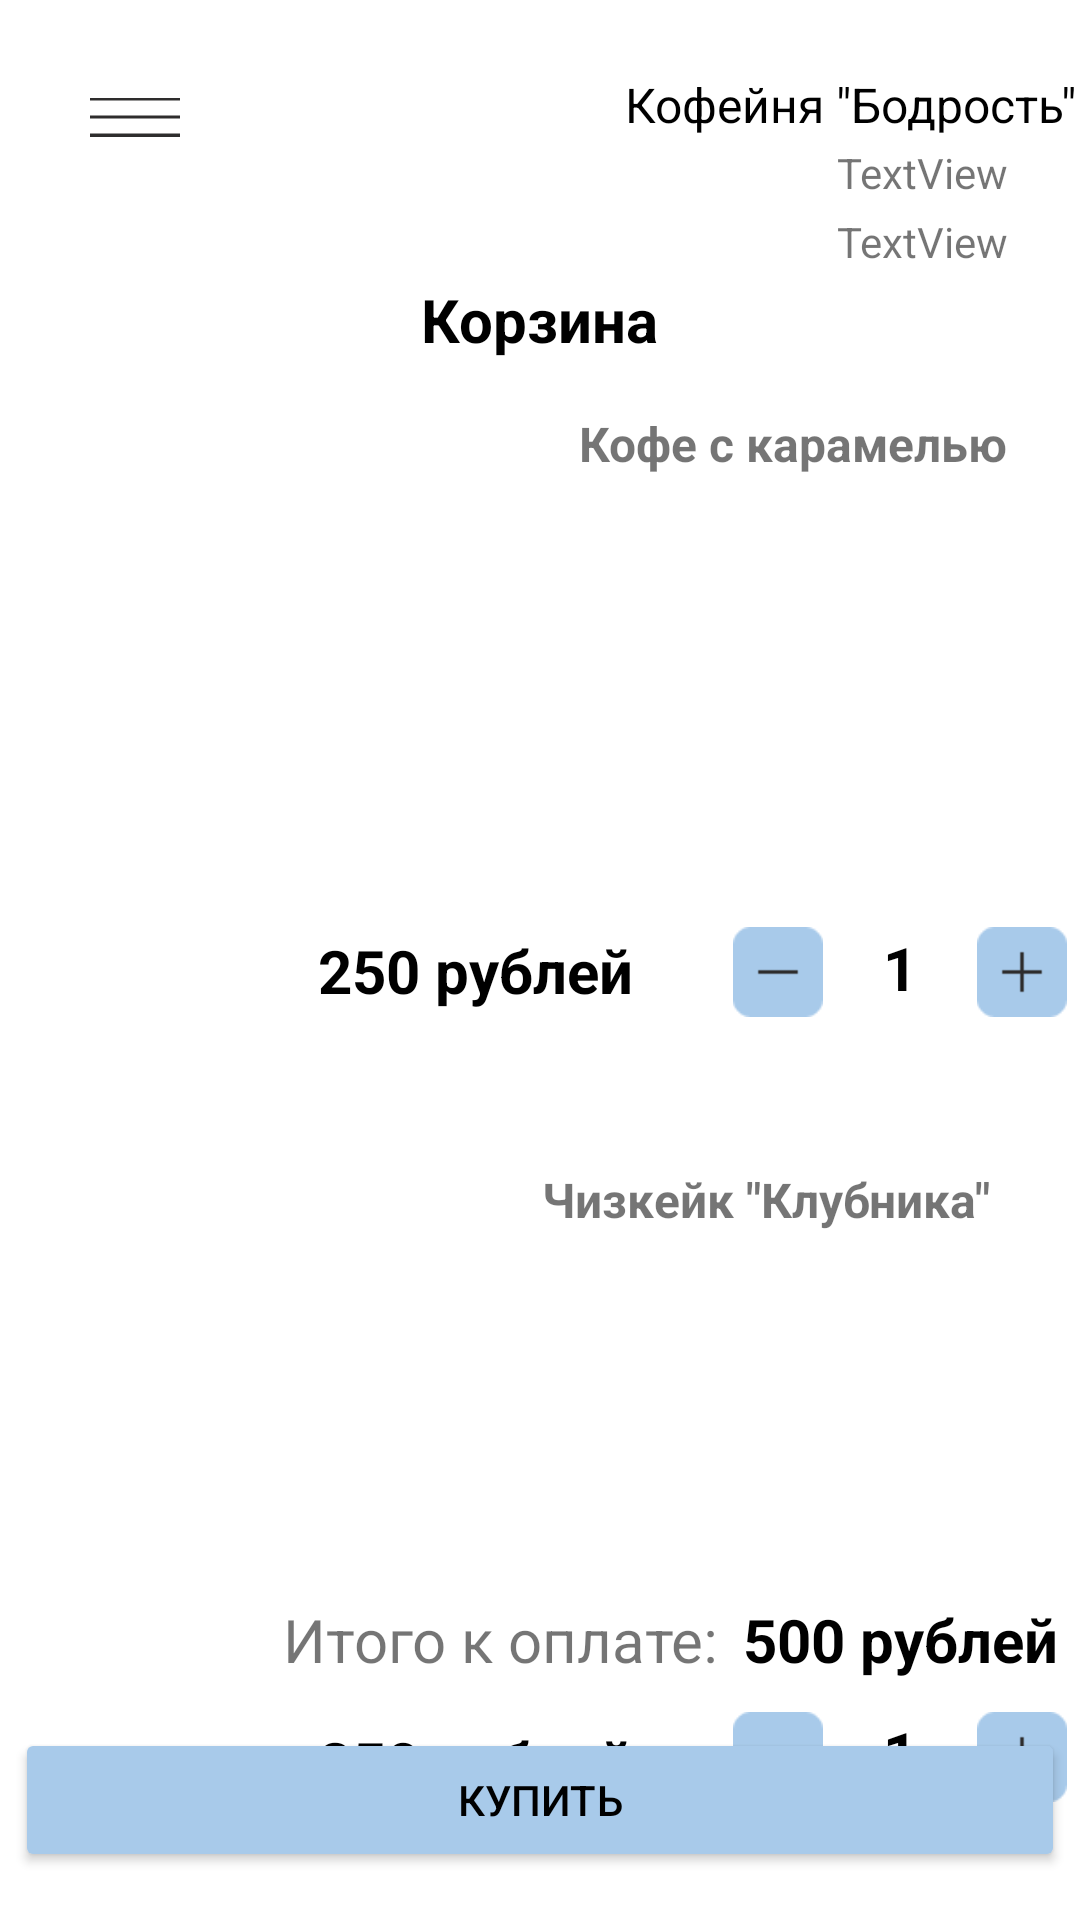

Screen size 1080 × 1920. Icon name, then its box in pixels as [x1=x1, y1=y1, x2=x2, y2=y2]:
menu: [x1=90, y1=98, x2=180, y2=137]
